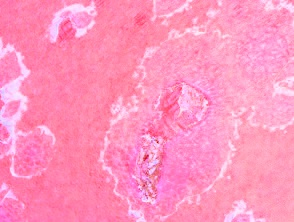SJS-TEN: (79, 13, 271, 222), (0, 35, 56, 185), (38, 0, 100, 55)
